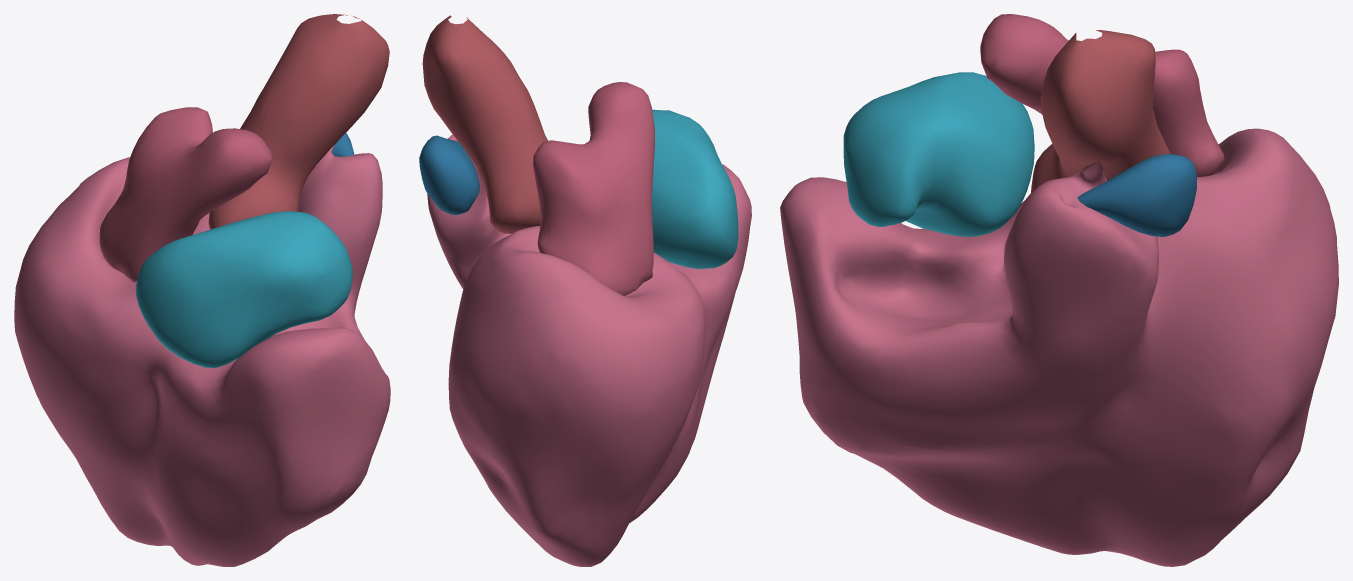
The model's file is frame_44.glb.
3 views of the same model, side by side, from view 1: azimuth 30°, elevation 25°; view 2: azimuth 150°, elevation 25°; view 3: azimuth 270°, elevation 25° (orthographic). The views are drawn at different scales.
Parts seen in each view (by area): view 1: Renderer Node; view 2: Renderer Node; view 3: Renderer Node.
Boxes of the visible parts, x1,y1,x2,y2 form: Renderer Node: (14,14,390,566); Renderer Node: (419,15,751,566); Renderer Node: (780,14,1338,566).
Bounding box in the file's own units: 102 × 159 × 129.
